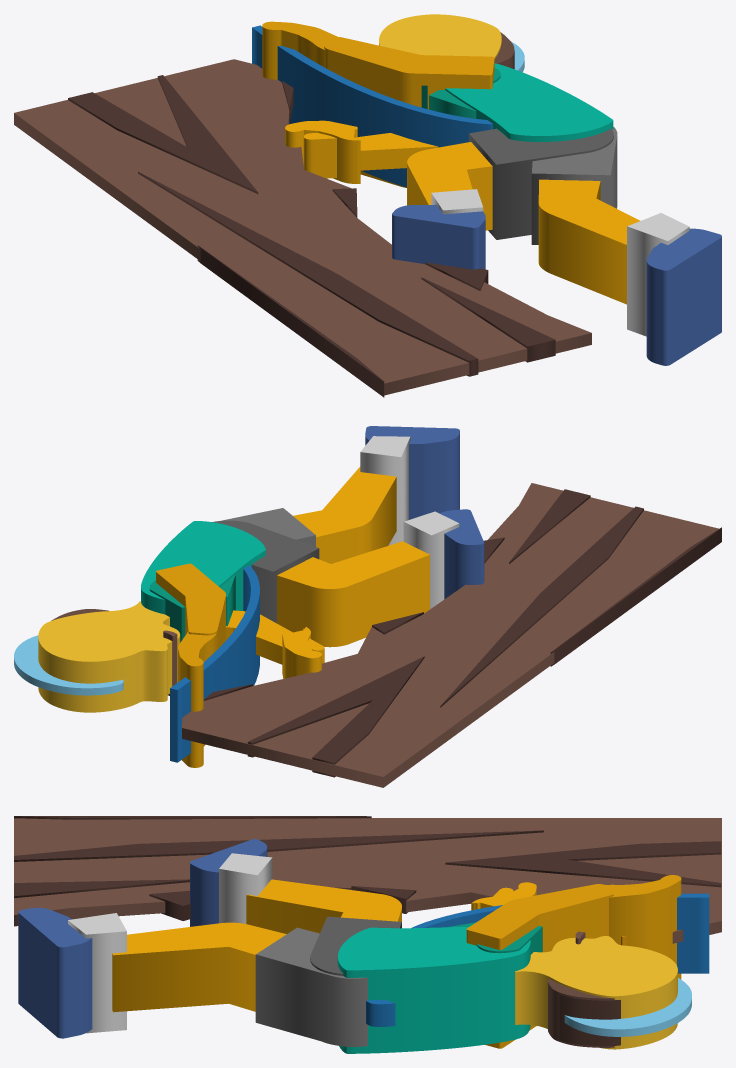
The model's file is emoji_u1f9d7_200d_2642.glb.
The picture shows the model from 3 angles, top to bottom: view 1: azimuth 30°, elevation 25°; view 2: azimuth 150°, elevation 25°; view 3: azimuth 270°, elevation 25°; orthographic projection. The views are drawn at different scales.
Parts seen in each view (by area): view 1: emoji_u1f9d7_200d_2642; view 2: emoji_u1f9d7_200d_2642; view 3: emoji_u1f9d7_200d_2642.
Part boxes in pixels (box(x1,y1,x2,y2)): emoji_u1f9d7_200d_2642: box(14, 14, 721, 397); emoji_u1f9d7_200d_2642: box(14, 426, 721, 787); emoji_u1f9d7_200d_2642: box(14, 816, 721, 1053).
Bounding box in the file's own units: 0.0237 × 0.0058 × 0.0338.
